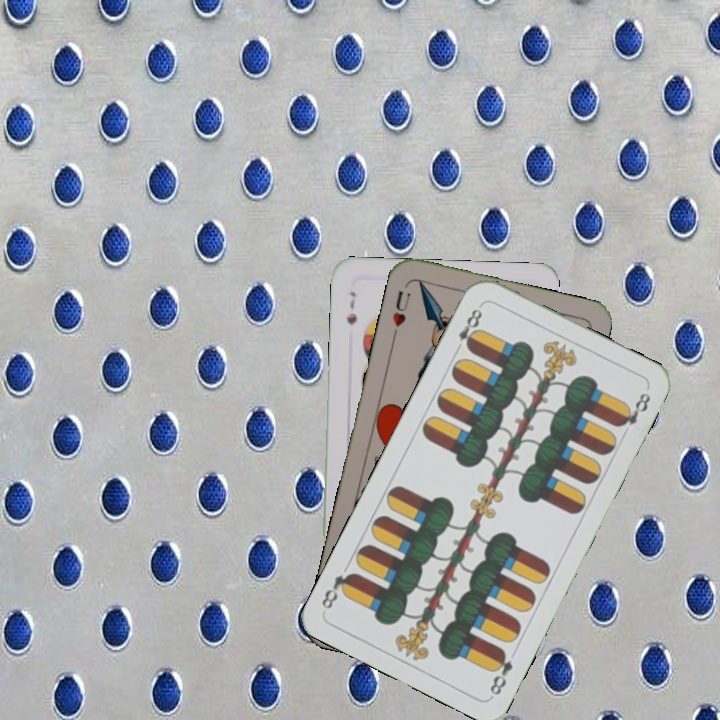E8: (451, 301, 485, 355), (485, 646, 516, 698)
HU: (388, 286, 413, 340)
S7: (342, 287, 359, 327)
